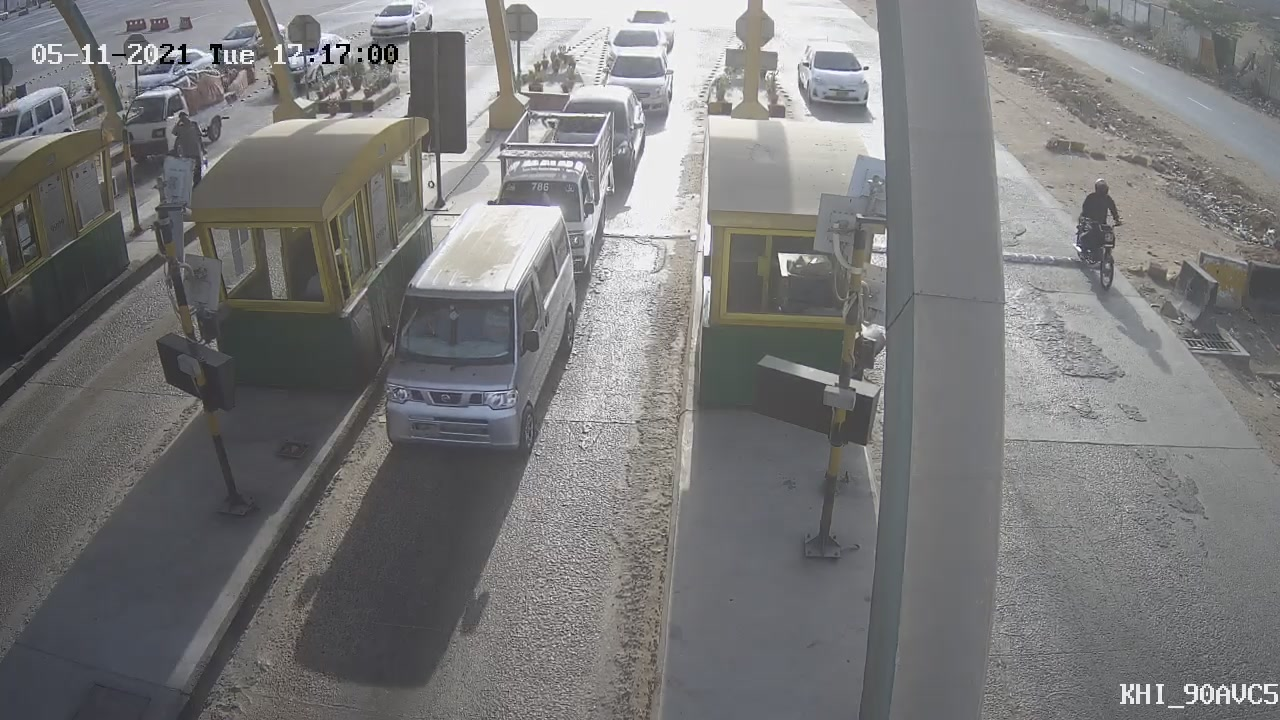F1: (365, 186, 590, 468)
